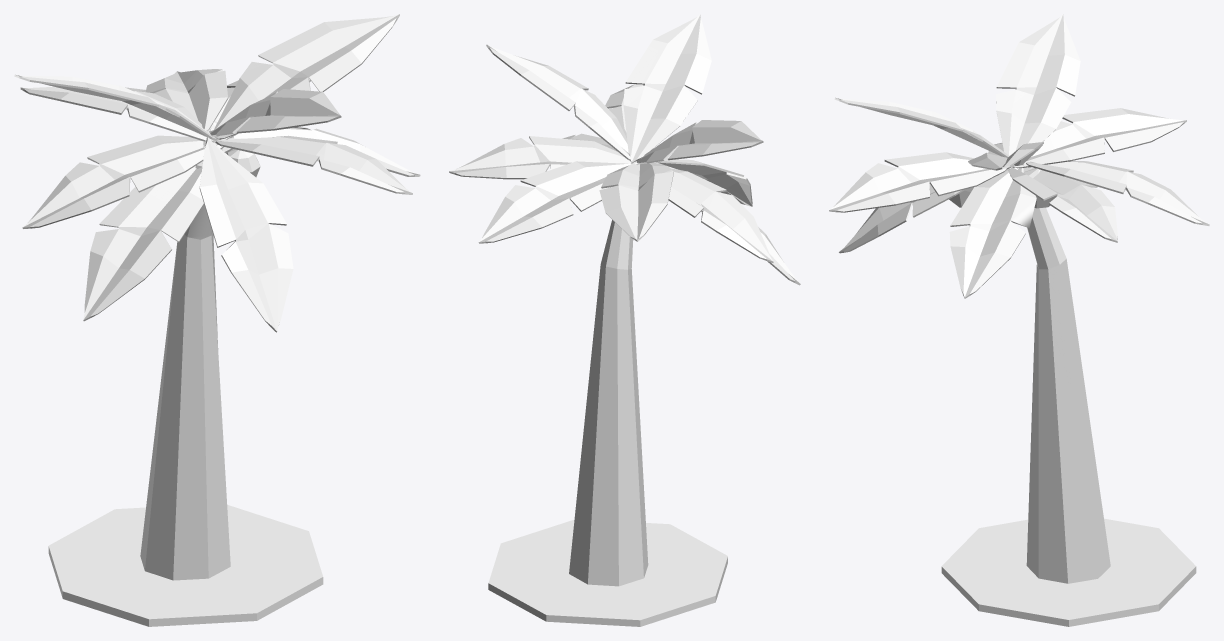
File: palmera vf.fbx
3 views of the same model, side by side, from view 1: azimuth 30°, elevation 25°; view 2: azimuth 150°, elevation 25°; view 3: azimuth 270°, elevation 25° (orthographic). The views are drawn at different scales.
Visible parts, largest first — view 1: palmera_vf1finalsivf; view 2: palmera_vf1finalsivf; view 3: palmera_vf1finalsivf.
Part boxes in pixels (<box>): palmera_vf1finalsivf: <box>14,14,420,626</box>; palmera_vf1finalsivf: <box>449,14,800,626</box>; palmera_vf1finalsivf: <box>829,14,1209,626</box>.
Size of the model in its own units: 735 by 1077 by 764.
